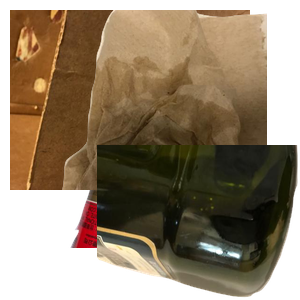cardboard: (10, 10, 250, 190)
glass: (68, 120, 255, 300)
plastic: (97, 145, 300, 300)
trash: (60, 10, 300, 190)
